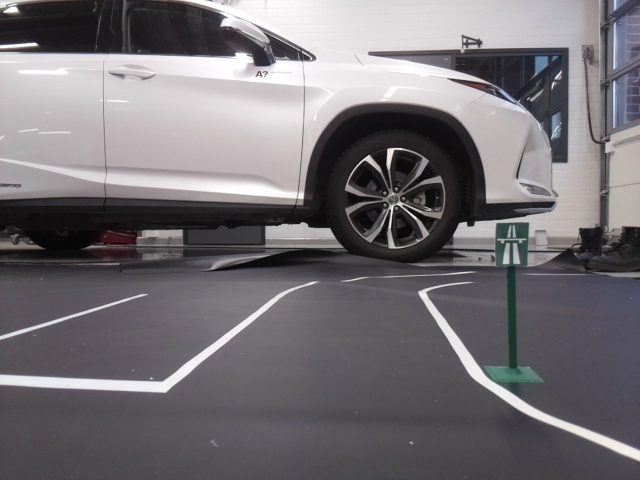HighwayEntrance: (497, 223, 528, 267)
